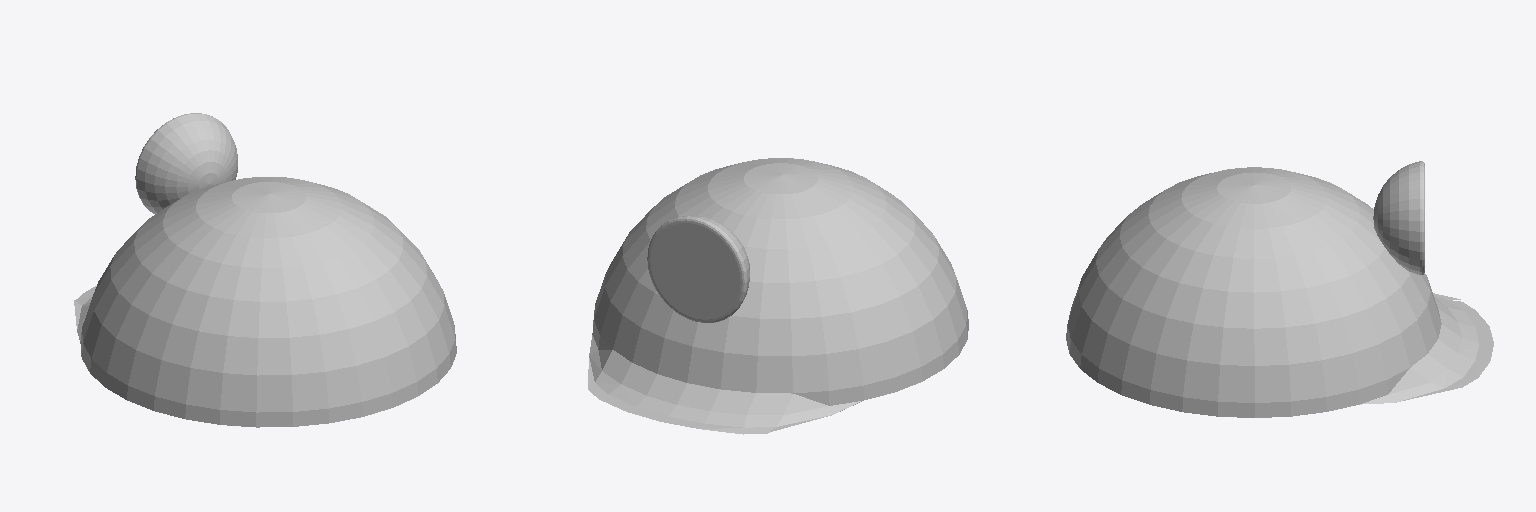
File: hardhat.obj
3 views of the same model, side by side, from view 1: azimuth 30°, elevation 25°; view 2: azimuth 150°, elevation 25°; view 3: azimuth 270°, elevation 25° (orthographic).
Visible parts, largest first — view 1: HardHat; view 2: HardHat; view 3: HardHat.
Part boxes in pixels (x1,y1,x2,y2): HardHat: (74, 113, 456, 427); HardHat: (588, 158, 968, 434); HardHat: (1066, 161, 1493, 417).
Bounding box in the file's own units: 53.95 × 28.3 × 61.21.